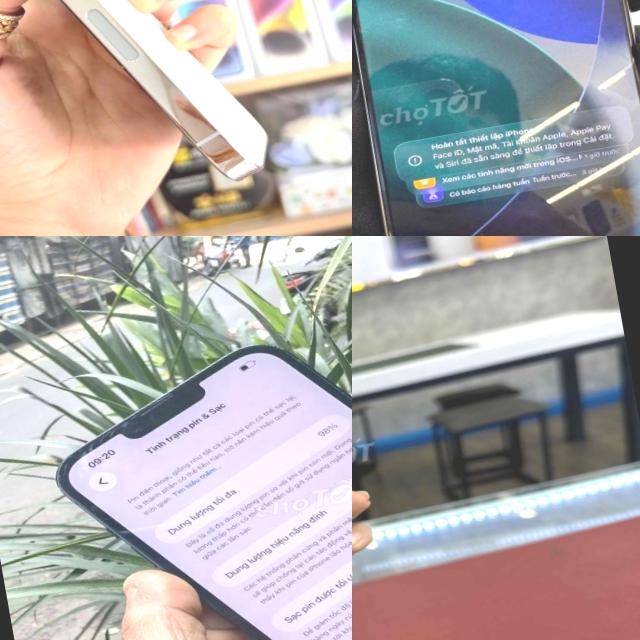gen_12_13: (0, 0, 282, 230)
gen_14: (36, 282, 352, 640)
gen_15: (352, 0, 640, 236)
